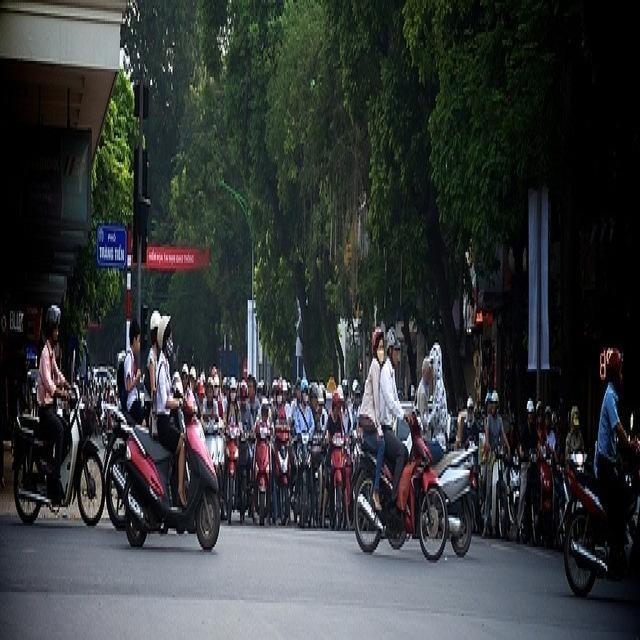motorcycle: (100, 396, 229, 556), (339, 411, 452, 564), (6, 382, 102, 529)
